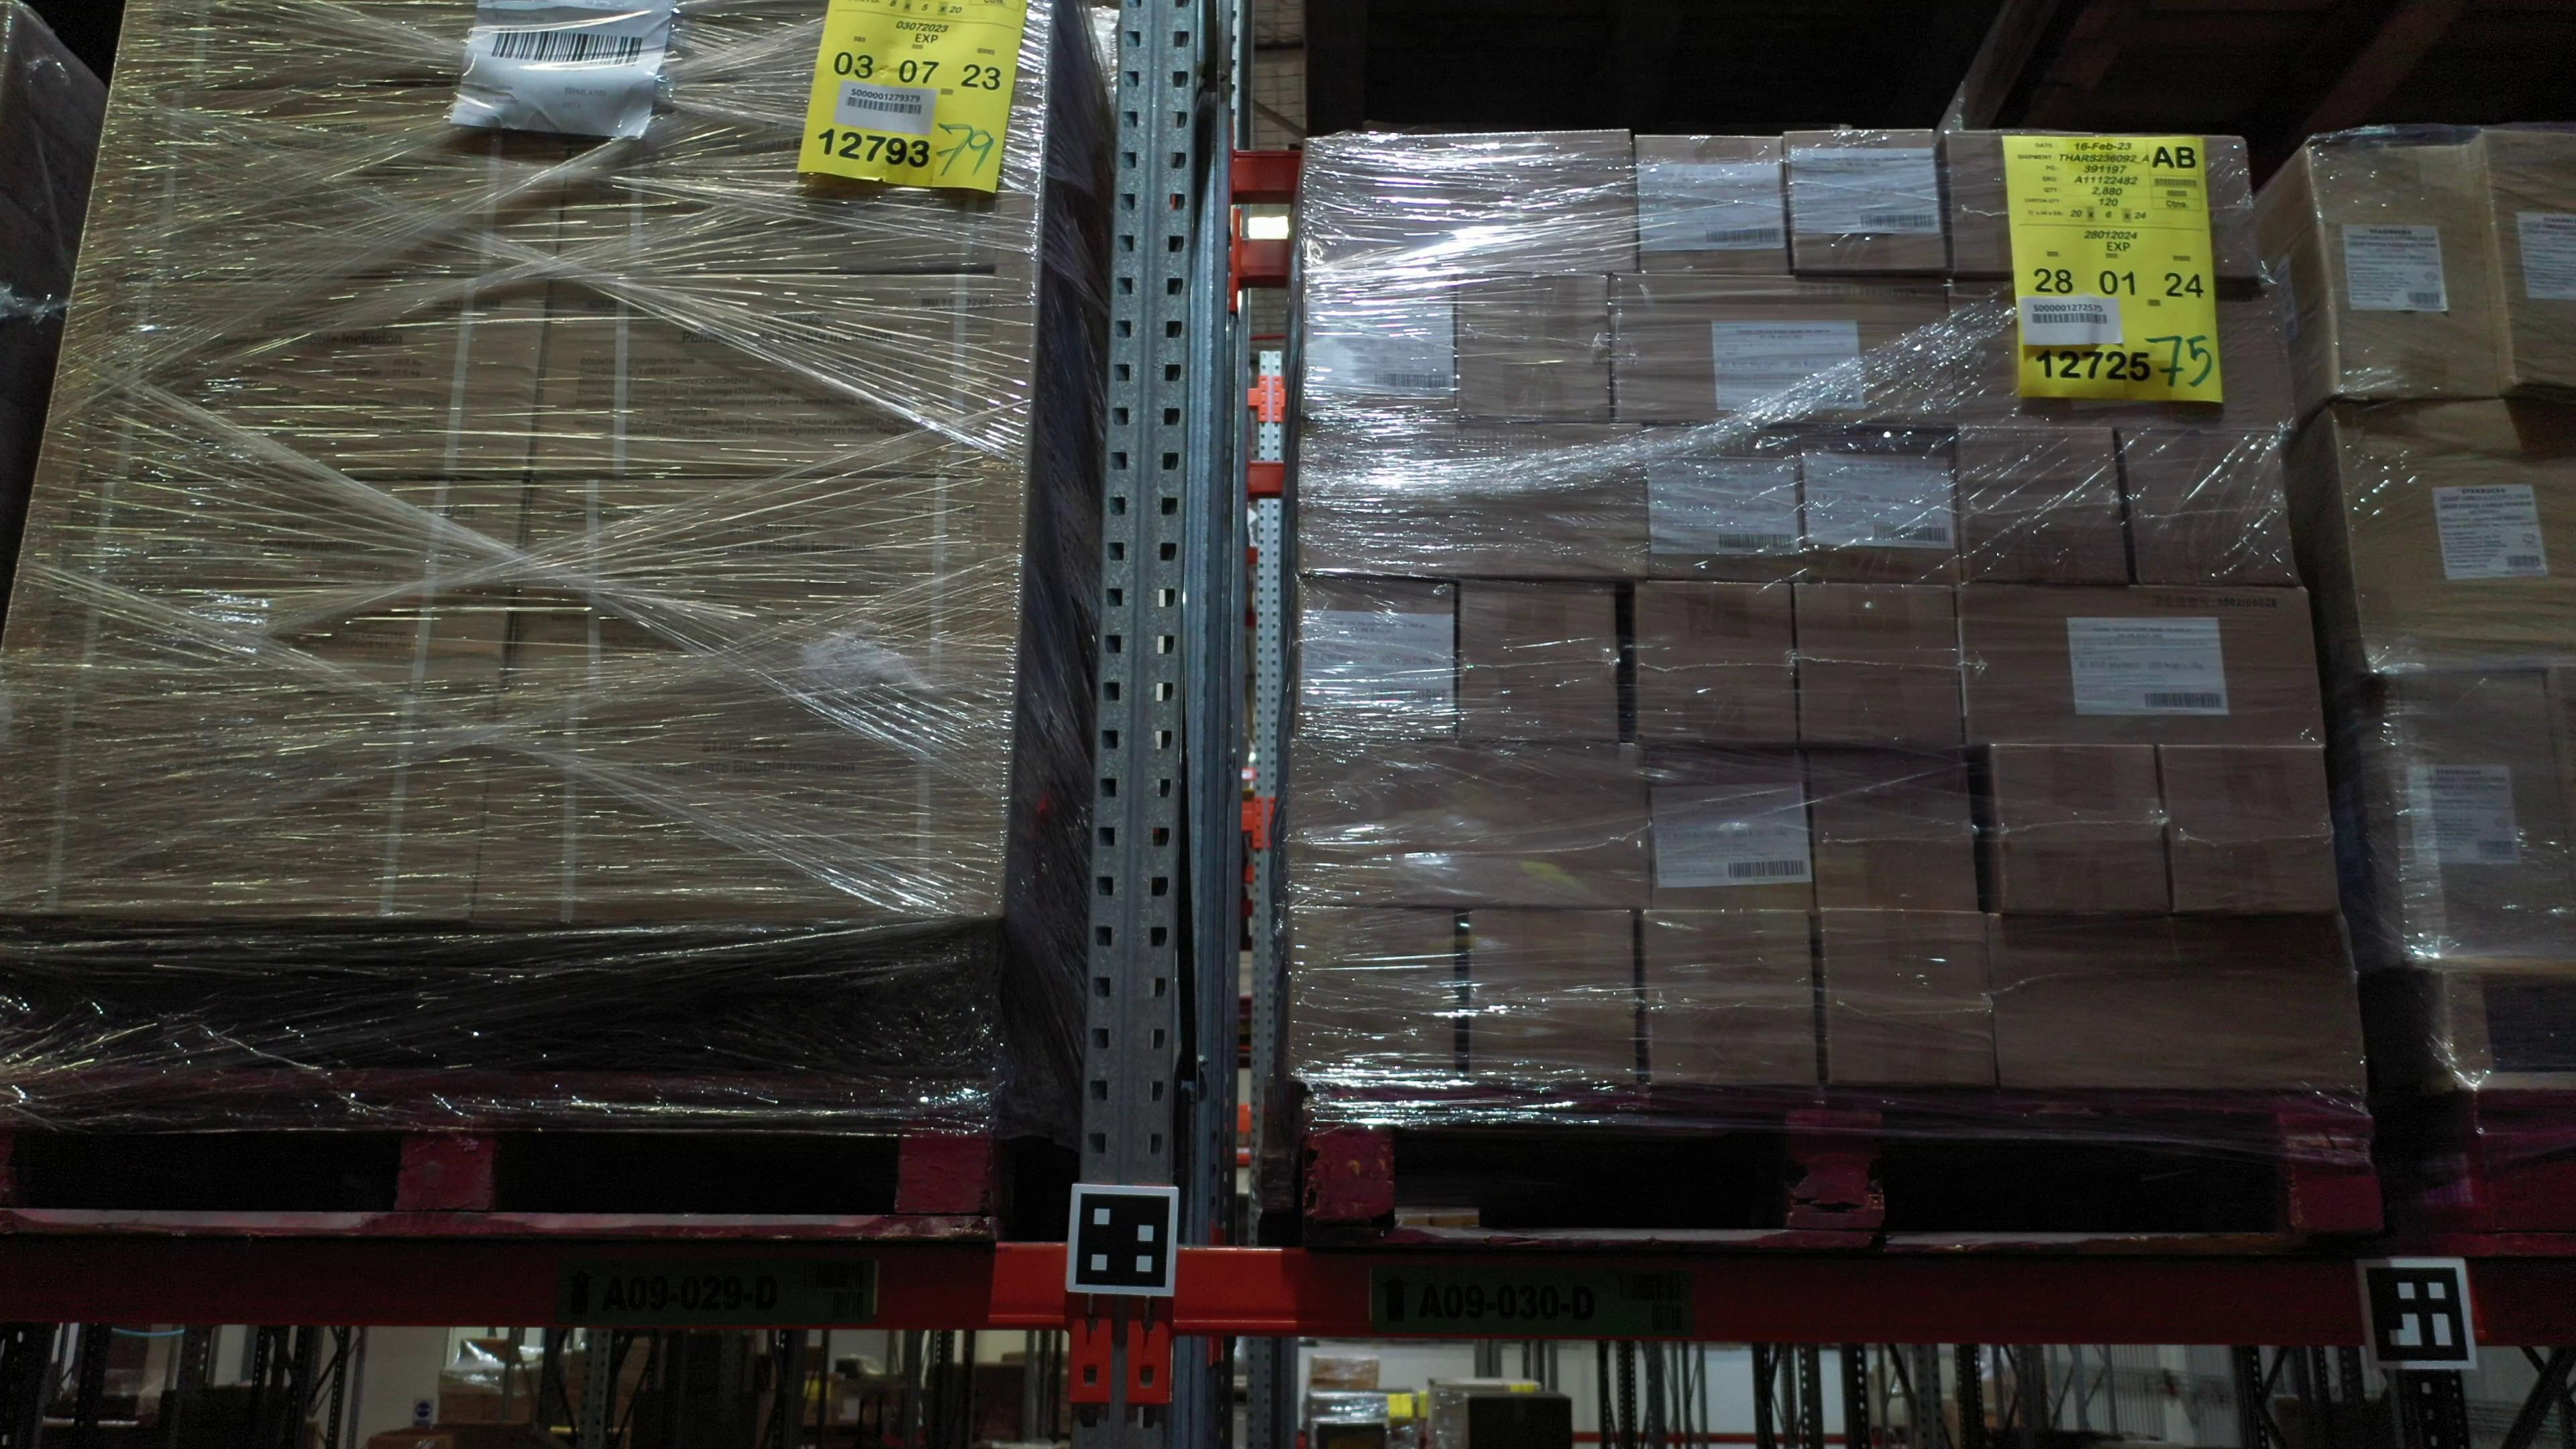-: (467, 692, 1014, 925), (0, 676, 499, 922), (0, 474, 533, 694), (501, 472, 1028, 694), (37, 274, 554, 478), (531, 271, 1040, 474), (76, 81, 573, 280), (552, 83, 1047, 278), (1990, 909, 2371, 1095), (2334, 395, 2576, 672), (1286, 736, 1651, 909), (1959, 582, 2328, 747), (2376, 674, 2576, 961), (1302, 416, 1647, 579), (1948, 276, 2298, 433), (1608, 272, 1957, 430), (2304, 143, 2514, 398), (1304, 129, 1642, 276), (111, 2, 582, 90), (1815, 909, 1997, 1090), (1985, 743, 2176, 913), (1467, 906, 1642, 1090), (1645, 908, 1821, 1086), (2155, 743, 2337, 913), (1290, 904, 1460, 1079), (1806, 745, 1982, 915), (1642, 743, 1819, 909), (1955, 425, 2135, 584), (2118, 432, 2298, 591), (1796, 579, 1964, 747), (1633, 579, 1803, 745), (1295, 577, 1458, 743), (2473, 126, 2576, 387), (1798, 425, 1964, 584), (1458, 582, 1619, 743), (1941, 133, 2116, 280), (1645, 421, 1808, 579), (1783, 127, 1951, 278), (2100, 133, 2266, 280), (1458, 271, 1615, 418), (1304, 269, 1460, 416), (1637, 133, 1792, 276)
